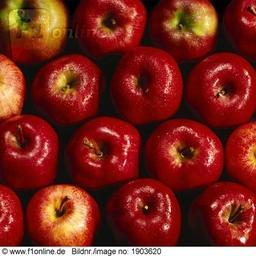apple: (65, 120, 143, 194), (31, 55, 105, 133), (118, 47, 189, 126), (147, 125, 226, 193), (105, 179, 183, 245), (186, 55, 253, 130), (24, 185, 103, 246), (1, 1, 69, 64), (148, 1, 217, 63), (1, 122, 61, 193), (73, 1, 146, 58), (190, 182, 256, 245), (224, 120, 256, 191), (220, 1, 256, 62), (1, 53, 25, 120)
